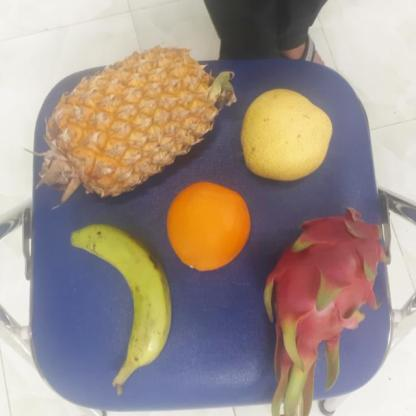banana: (66, 224, 169, 379)
orange: (165, 184, 252, 272)
pear: (236, 86, 335, 181)
pineapple: (29, 44, 221, 198)
pitaya: (258, 209, 390, 390)
